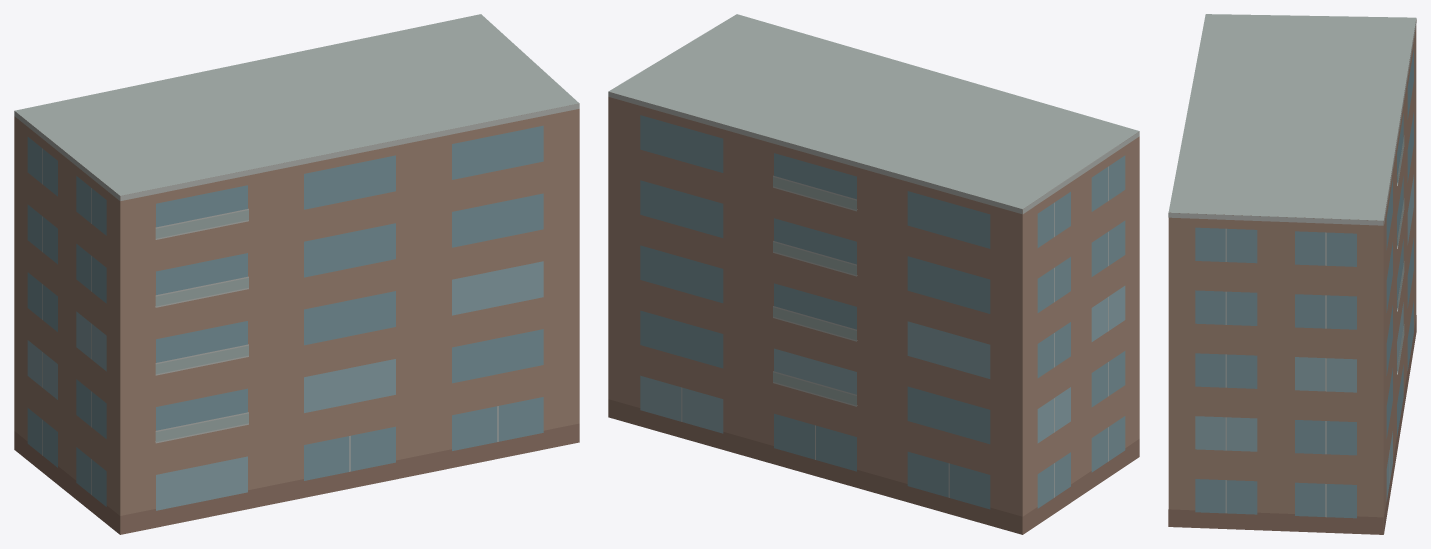
Rendered from survey-upis-32751287.glb.
3 renders of one model, left to right at view 1: azimuth 30°, elevation 25°; view 2: azimuth 150°, elevation 25°; view 3: azimuth 270°, elevation 25°, orthographic. The views are drawn at different scales.
Visible parts, largest first — view 1: survey-upis-32751287.tmp; view 2: survey-upis-32751287.tmp; view 3: survey-upis-32751287.tmp.
Boxes of the visible parts, <box> form: survey-upis-32751287.tmp: <box>14,14,579,534</box>; survey-upis-32751287.tmp: <box>608,14,1139,534</box>; survey-upis-32751287.tmp: <box>1168,14,1416,534</box>.
Bounding box in the file's own units: 21.67 × 15.35 × 10.99.
